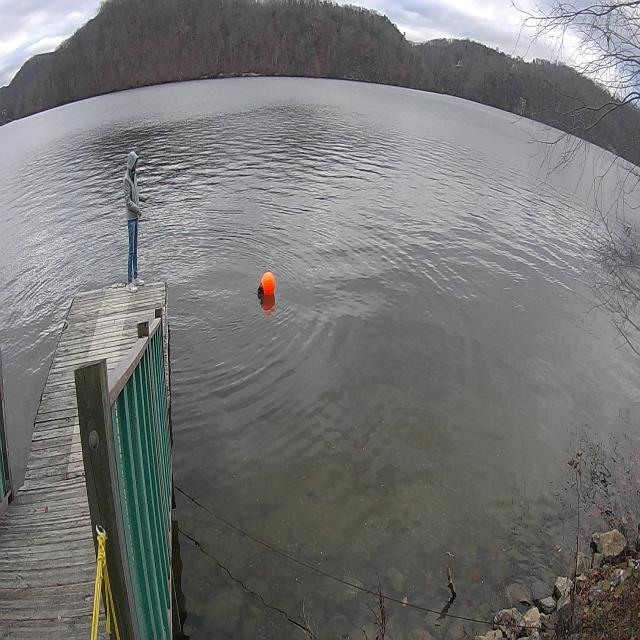Buoy: (259, 269, 276, 302)
